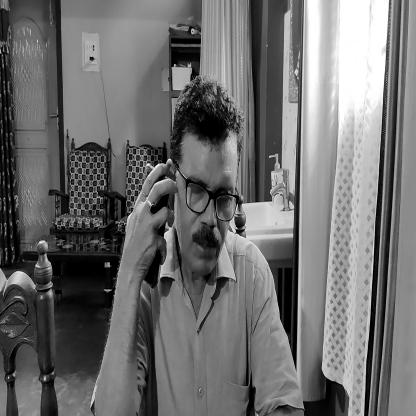Distracted: (166, 69, 240, 282)
